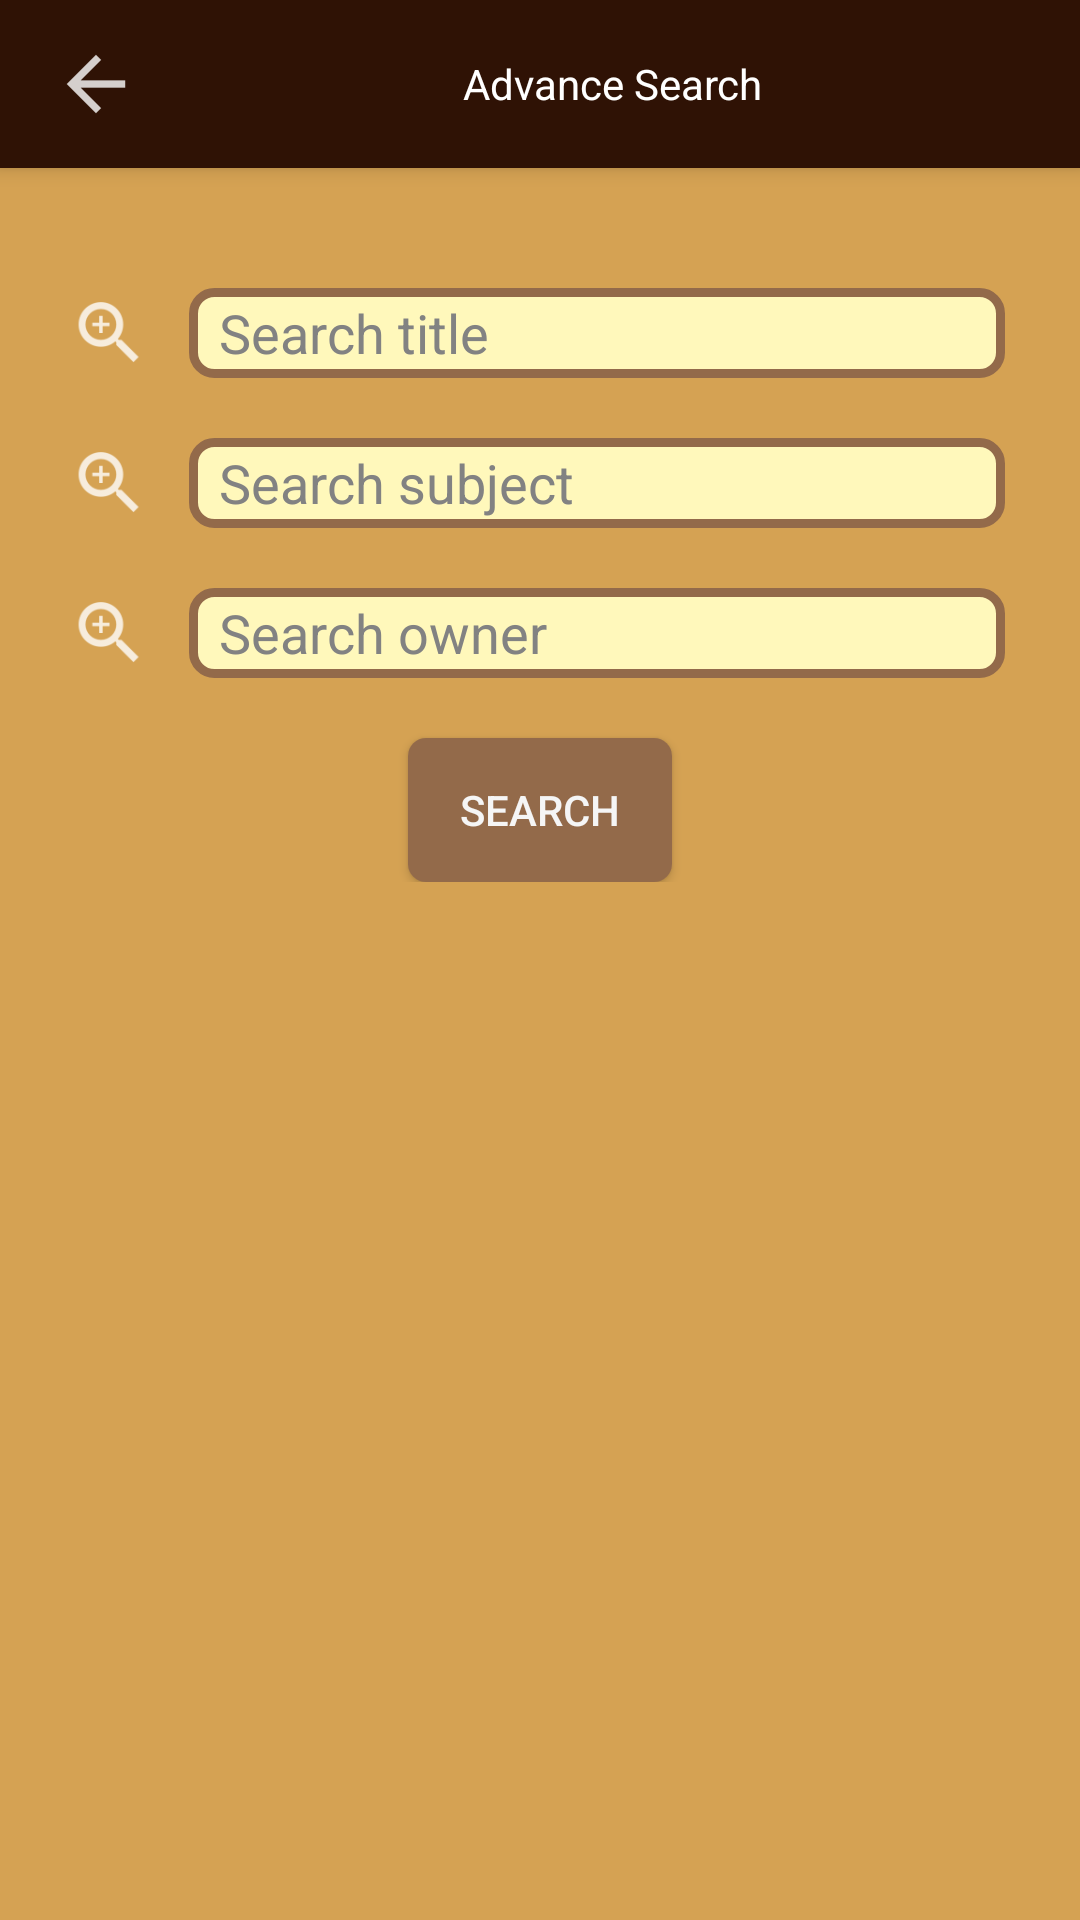

Named icons in this screenshot (1080*1920) and their bounding boxes, (x1, y1, x2, y2):
back: (67, 55, 126, 113)
